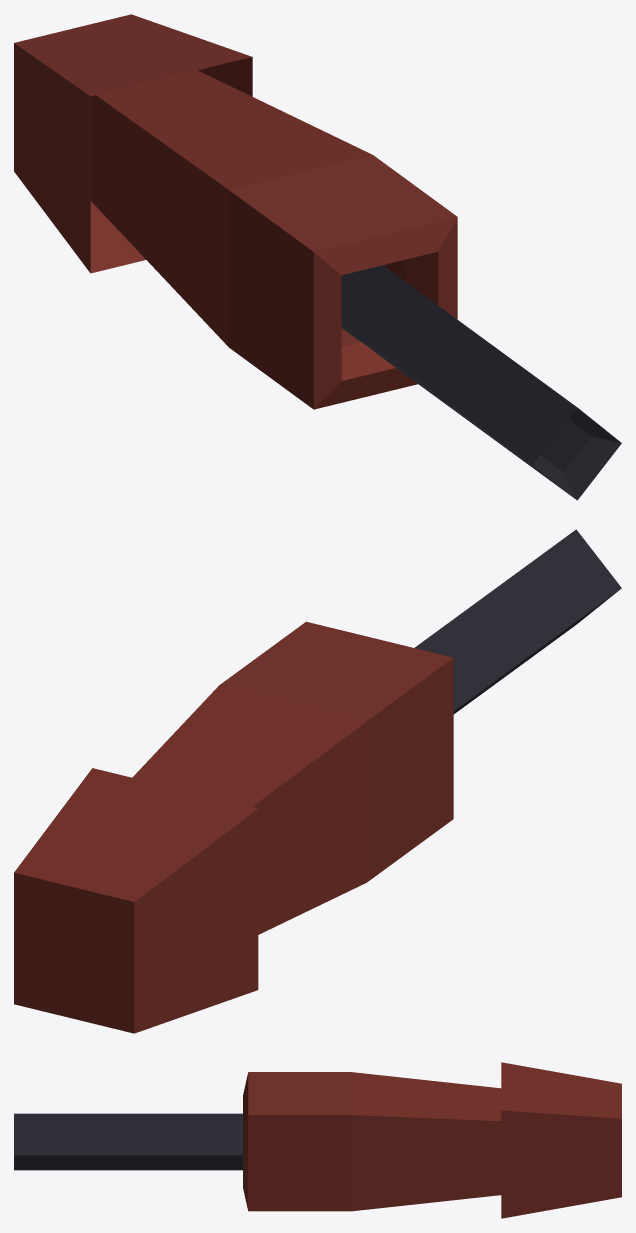
The model's file is LeftArm1.fbx.
3 views of the same model, one above another, from view 1: azimuth 30°, elevation 25°; view 2: azimuth 150°, elevation 25°; view 3: azimuth 270°, elevation 25° (orthographic). The views are drawn at different scales.
Visible parts, largest first — view 1: Cube, Cube.001; view 2: Cube, Cube.001; view 3: Cube, Cube.001.
Part boxes in pixels (box(x1,y1,x2,y2)): Cube: box(14, 14, 457, 409); Cube.001: box(341, 265, 621, 500); Cube: box(14, 621, 453, 1033); Cube.001: box(414, 529, 621, 714); Cube: box(243, 1062, 621, 1218); Cube.001: box(14, 1113, 242, 1170).
Size of the model in its own units: 297 by 310 by 1580.
